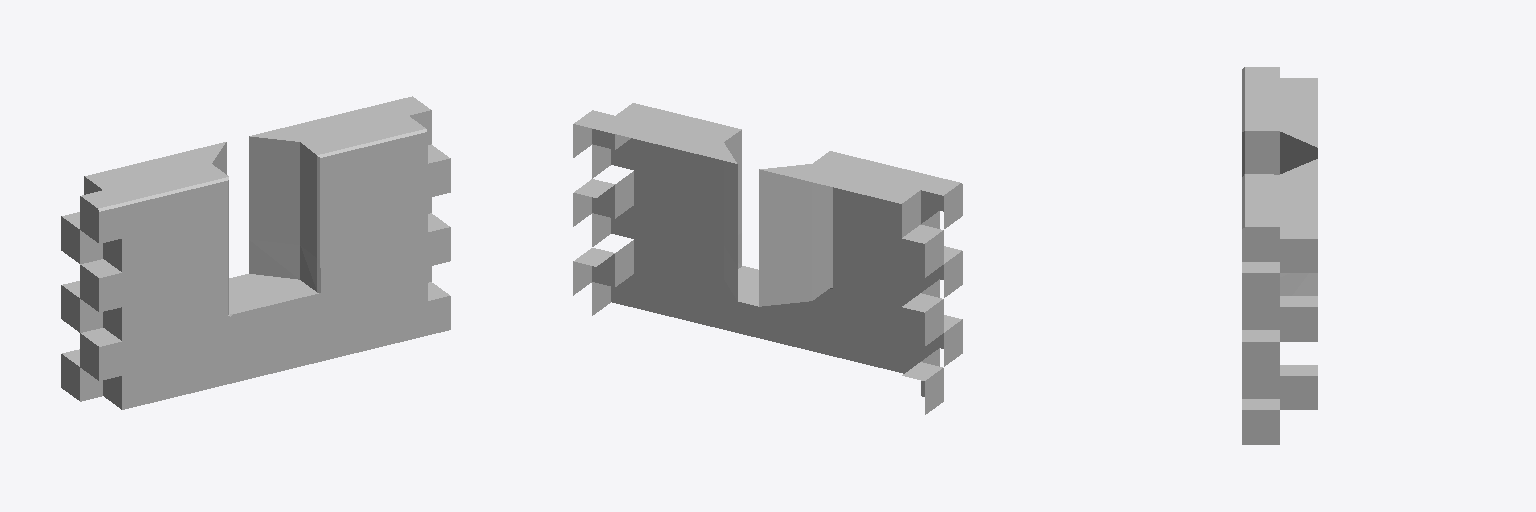
The model's file is Top Slot _ 3 Intact.obj.
3 views of the same model, side by side, from view 1: azimuth 30°, elevation 25°; view 2: azimuth 150°, elevation 25°; view 3: azimuth 270°, elevation 25° (orthographic).
Visible parts, largest first — view 1: Top_Slot_0_Intact.001; view 2: Top_Slot_0_Intact.001; view 3: Top_Slot_0_Intact.001.
Boxes of the visible parts, x1,y1,x2,y2 form: Top_Slot_0_Intact.001: [61, 96, 450, 409]; Top_Slot_0_Intact.001: [573, 103, 962, 414]; Top_Slot_0_Intact.001: [1242, 67, 1317, 444].
Size of the model in its own units: 1.6 by 0.9 by 0.3.